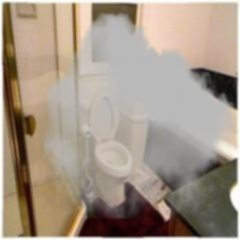smoke: (58, 49, 188, 140)
